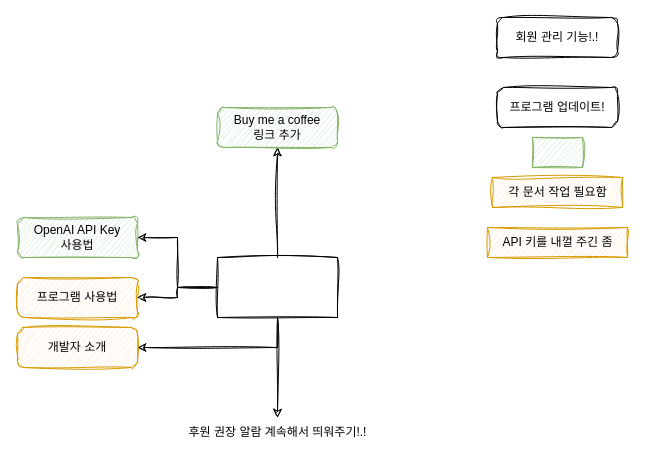
Image size: 645x465. Some labels were removed from this diagram. The shapes that lost their labels are listed below. From the top down, each one's centre as x and y in pixels, then its label:
At [557,152]: "완료".
At [277,287]: "프로그램".
